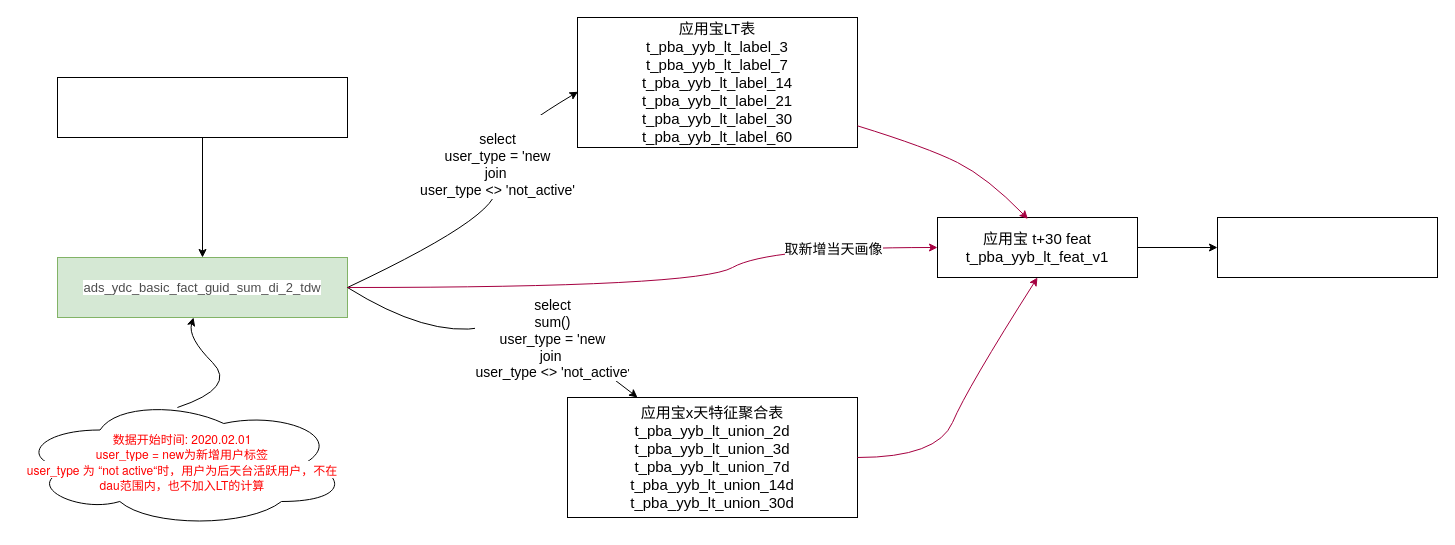
This 1455x545 diagram has some shape labels left out. The box of each missing label's shape, as (x1, y1, x2, y2) in pixels:
应用宝 t+30 model t_pba_yyb_lt_model: (1216, 216, 1438, 278)
应用宝 venus数据表 同步任务id：819039754 soft.ads_ydc_basic_fact_guid_sum_di: (56, 76, 348, 138)
